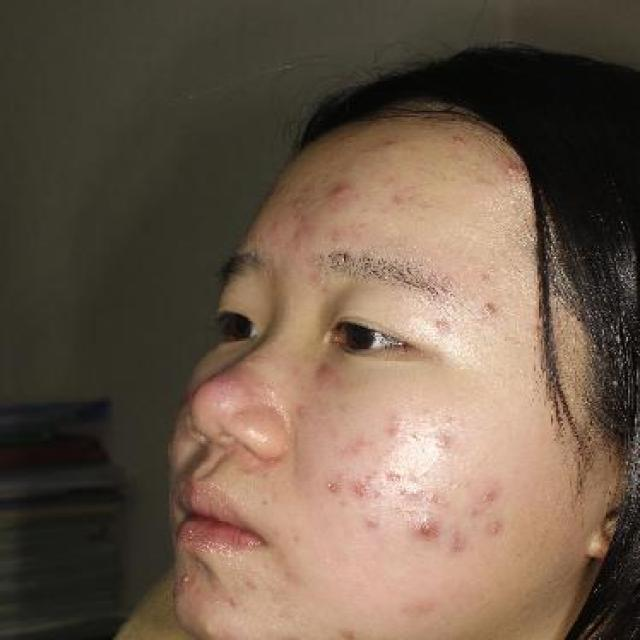dark spot: (421, 429, 459, 458), (474, 298, 503, 324), (431, 314, 457, 337)
papules: (320, 179, 361, 206), (411, 512, 442, 543), (498, 157, 525, 189), (195, 617, 224, 638), (176, 568, 197, 592)
